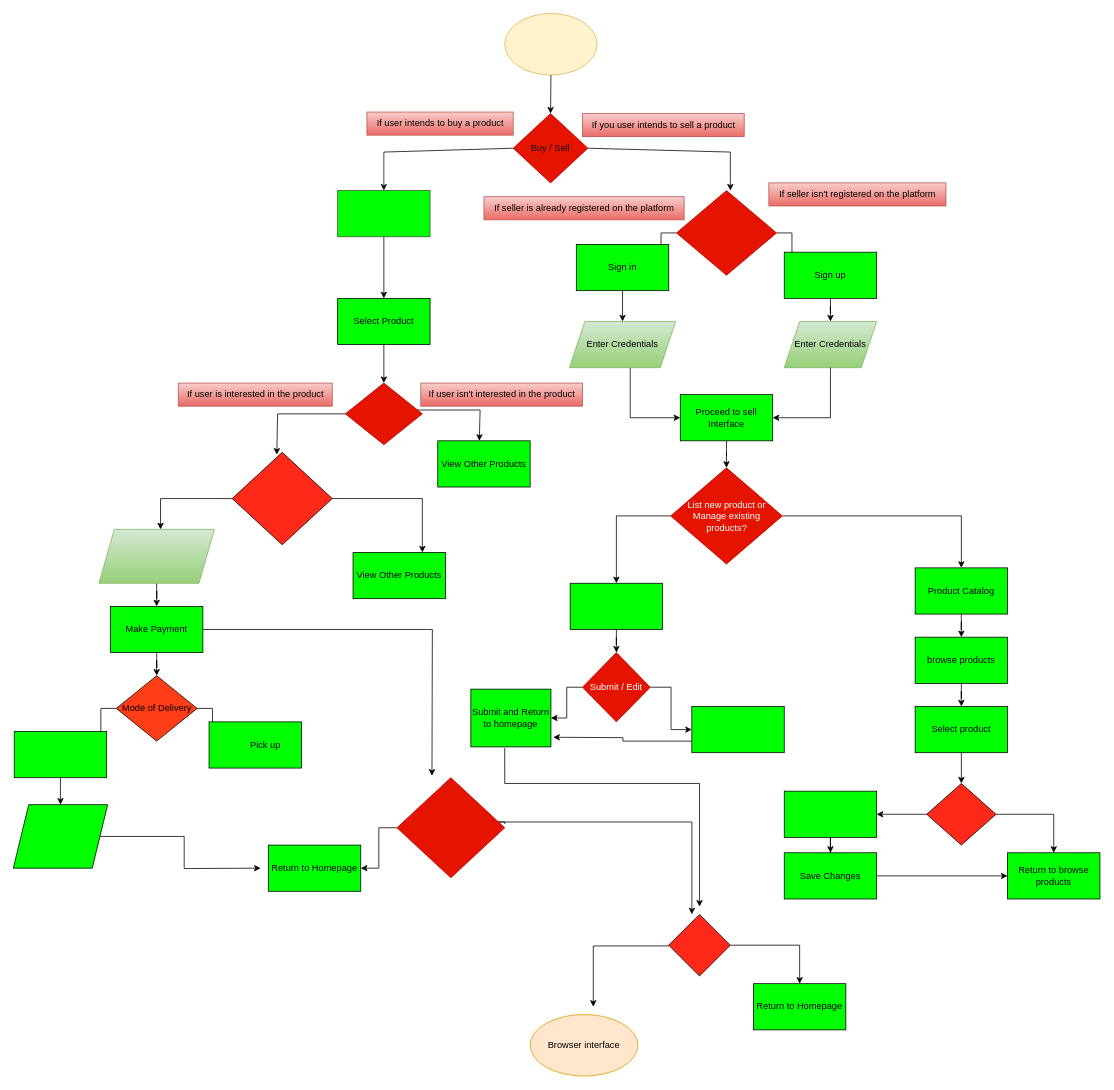
Image size: 1114x1090. Some labels were removed from this diagram. The centre of each missing label's shape, as x and y in pixels:
"Add a product info" belongs at (x=616, y=606).
"Browse Category" belongs at (x=383, y=213).
"Confirm Changes" belongs at (x=737, y=729).
"Delivery" belongs at (x=60, y=754).
"Do you want to add to cart?" belongs at (x=383, y=413).
"Enter Account Details" belongs at (x=156, y=556).
"Enter Delivery Delivery details" belongs at (x=60, y=836).
"Go back to homepage/Log out" belongs at (x=450, y=827).
"Homepage" belongs at (x=550, y=44).
"Is Seller Registered?" belongs at (x=726, y=232).
"Log out?" belongs at (x=699, y=945).
"Proceed to make payment?" belongs at (x=281, y=498).
"Update product details" belongs at (x=830, y=813).
"Update product?" belongs at (x=961, y=814).
